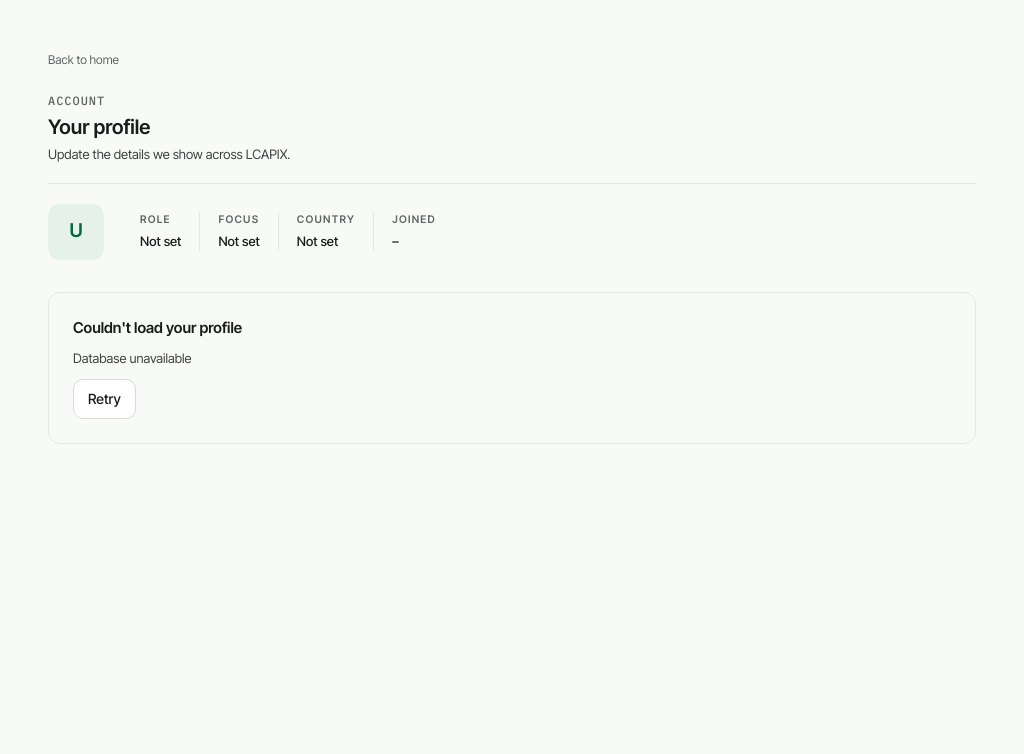
Test case: /profile › shows a load error with Retry instead of an empty, savable form
Expected: the message shows "Couldn't load your profile", [73,318,242,336]
Expected: the message shows "Database unavailable", [73,350,192,366]
Click the button "Retry" at x=104, y=398, box [73,378,136,418]
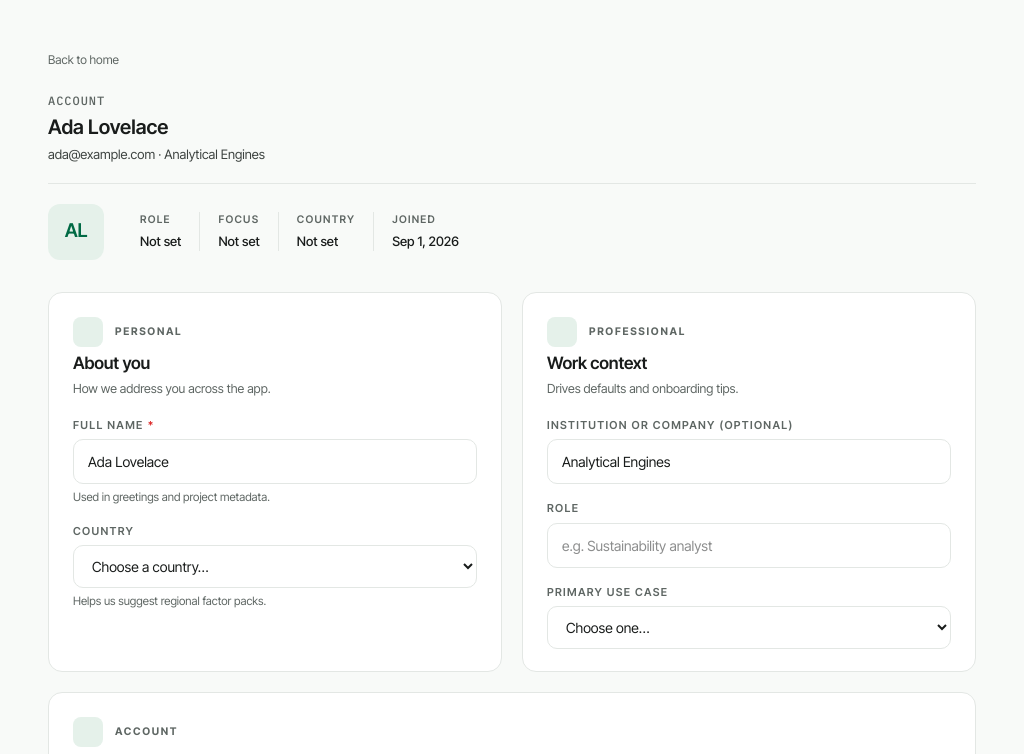
Result: the field showing "Ada Lovelace" below "Full name" is shown at [73,439,477,484]
Result: the message "Couldn't load your profile Database unavailable Retry" is gone
